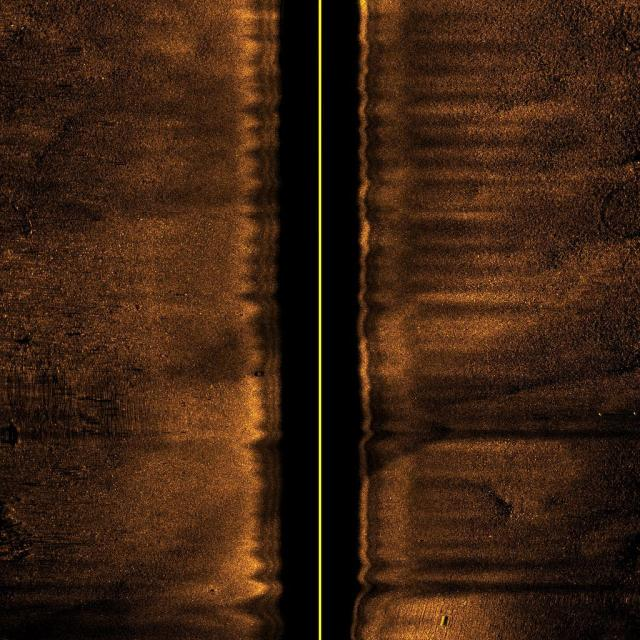mine: (438, 613, 450, 628)
